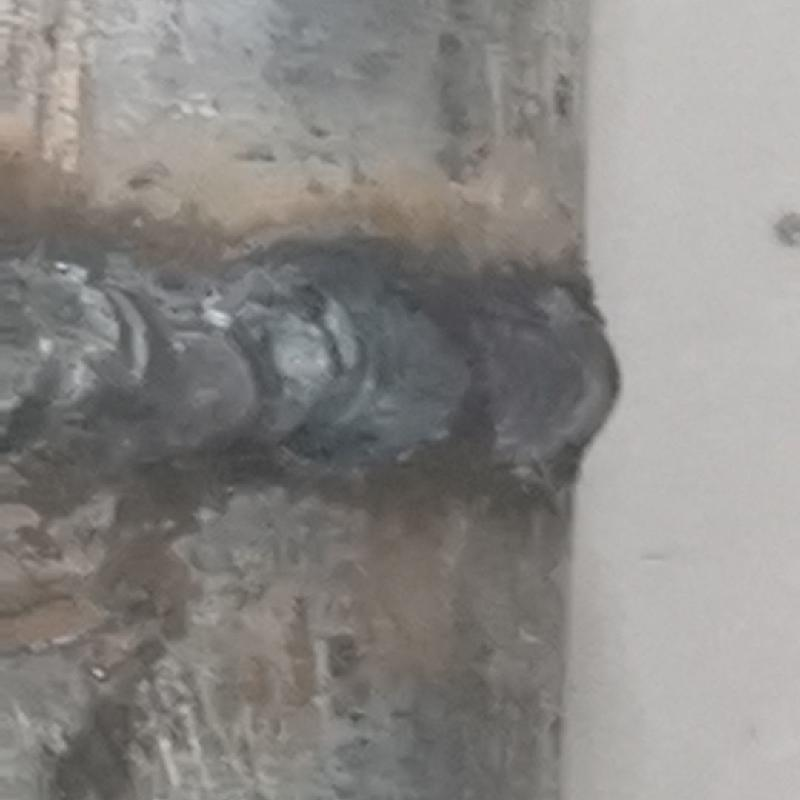good: (1, 241, 628, 503)
